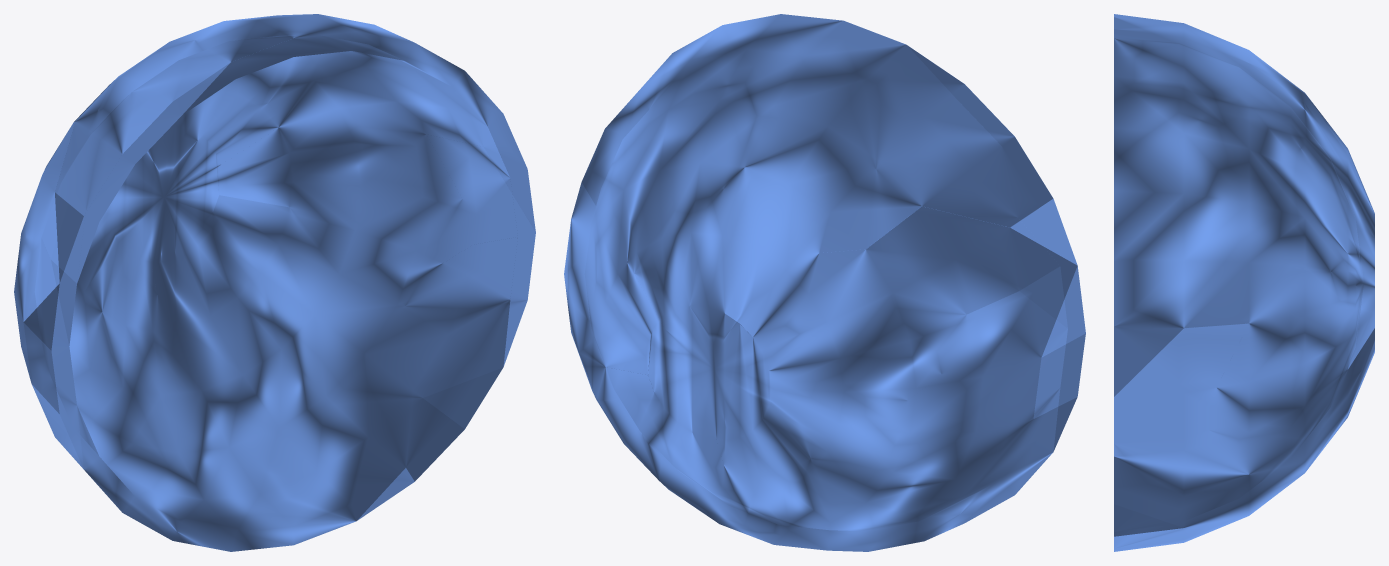
The model's file is model_align.obj.
The picture shows the model from 3 angles, left to right: view 1: azimuth 30°, elevation 25°; view 2: azimuth 150°, elevation 25°; view 3: azimuth 270°, elevation 25°; orthographic projection. The views are drawn at different scales.
Bounding box in the file's own units: 0.1465 × 0.1465 × 0.0708.
